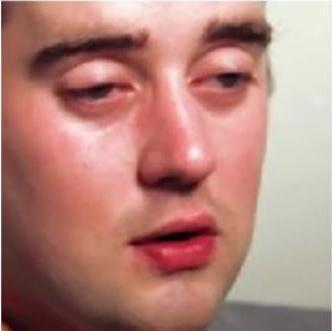Drunk: (20, 7, 264, 324)
